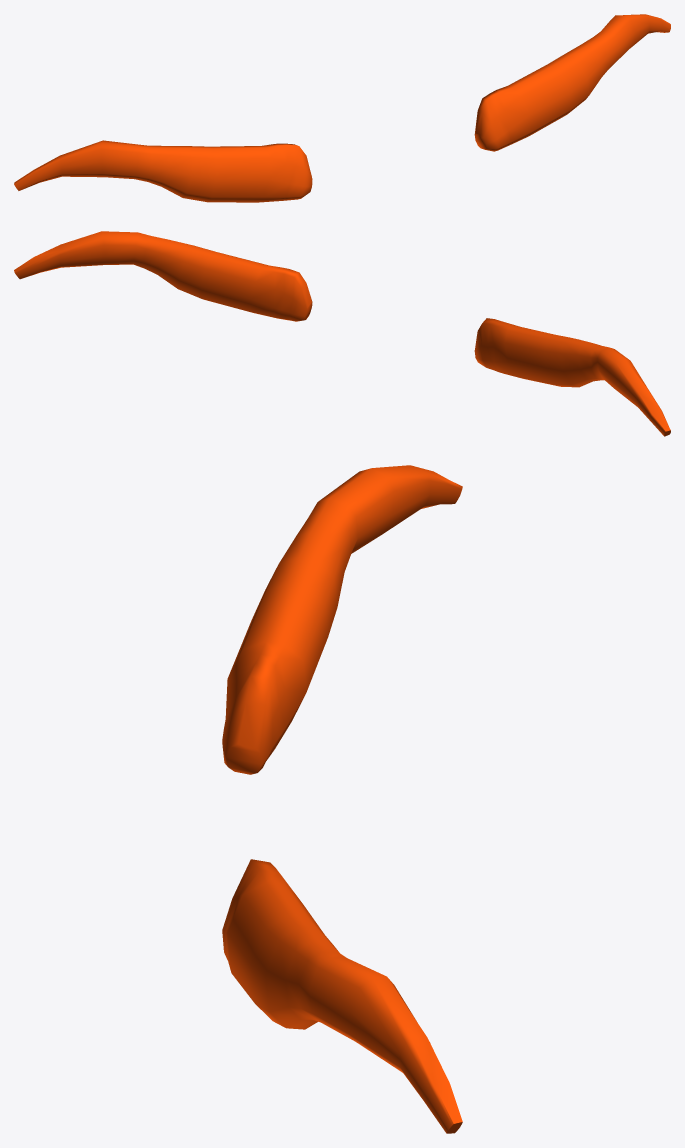
Rendered from Eyebrows_06_06.fbx.
3 views of the same model, one above another, from view 1: azimuth 30°, elevation 25°; view 2: azimuth 150°, elevation 25°; view 3: azimuth 270°, elevation 25° (orthographic). The views are drawn at different scales.
Parts seen in each view (by area): view 1: Eyebrows_06_06; view 2: Eyebrows_06_06; view 3: Eyebrows_06_06.
Boxes of the visible parts, box(x1,y1,x2,y2) form: Eyebrows_06_06: box(14, 14, 670, 202); Eyebrows_06_06: box(14, 231, 670, 436); Eyebrows_06_06: box(222, 465, 462, 1133).
Bounding box in the file's own units: 19.46 × 2.04 × 3.09.
